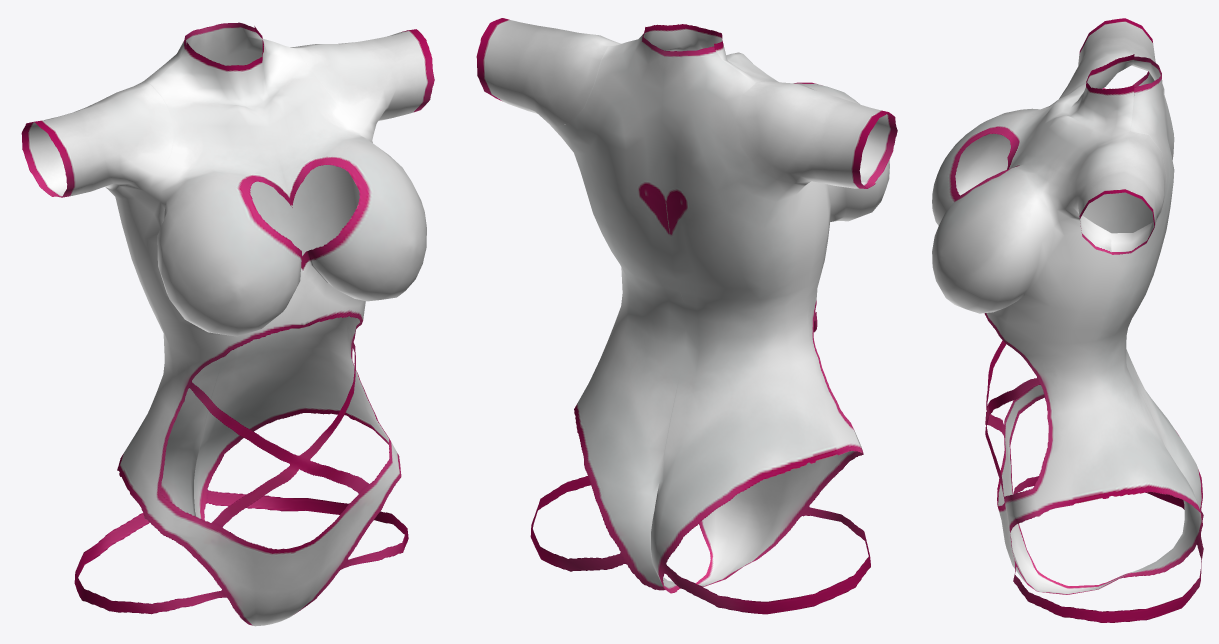
File: body_suit.glb
3 views of the same model, side by side, from view 1: azimuth 30°, elevation 25°; view 2: azimuth 150°, elevation 25°; view 3: azimuth 270°, elevation 25° (orthographic). The views are drawn at different scales.
Parts seen in each view (by area): view 1: BodySuit; view 2: BodySuit; view 3: BodySuit.
Part boxes in pixels (box(x1,y1,x2,y2)): BodySuit: box(21, 22, 434, 626); BodySuit: box(476, 18, 897, 614); BodySuit: box(932, 18, 1203, 622).
Bounding box in the file's own units: 0.4079 × 0.5505 × 0.2574.
1 material, 1 textured.
